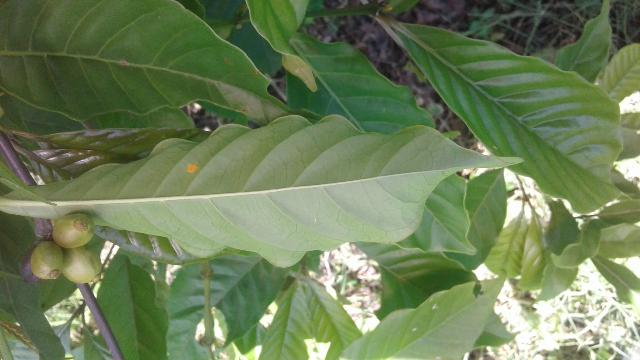rust_level_1: (0, 113, 523, 271)
